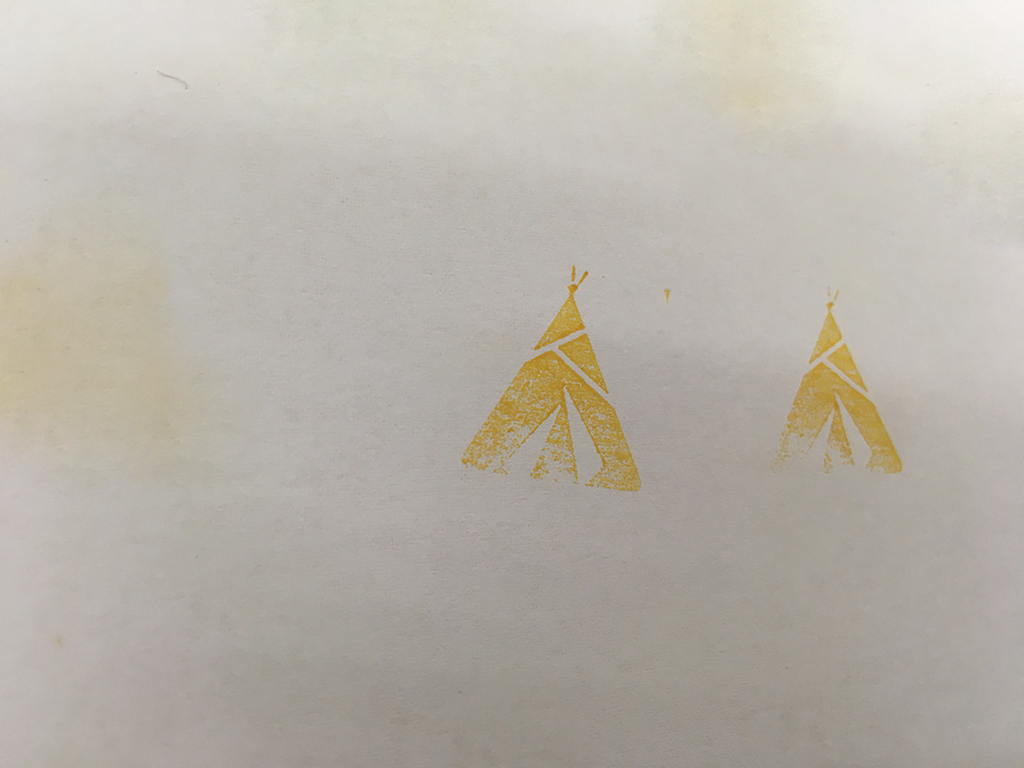tent: (453, 261, 649, 502), (761, 280, 908, 485)
